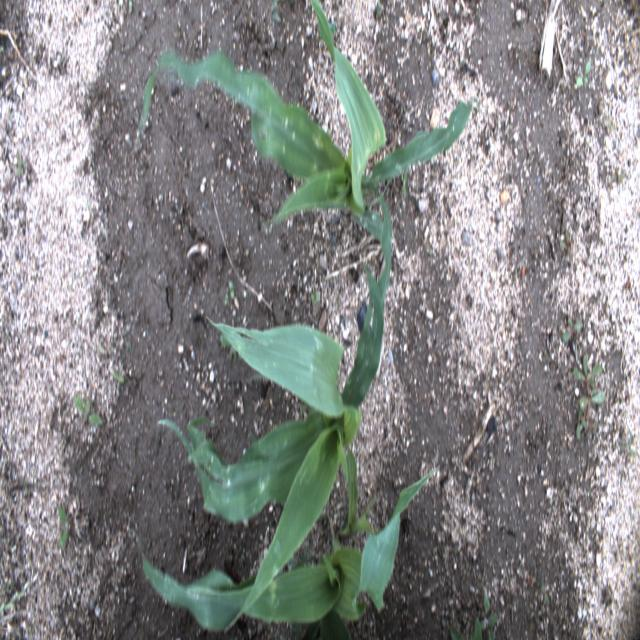crop: (155, 196, 393, 637), (130, 1, 474, 246), (144, 447, 442, 639)
weed: (573, 349, 606, 440), (478, 585, 499, 638), (72, 396, 103, 426), (449, 617, 484, 639), (561, 315, 584, 347), (57, 504, 71, 546), (558, 231, 574, 261), (113, 362, 126, 396), (576, 59, 591, 88), (15, 152, 25, 182), (610, 166, 624, 184), (402, 166, 408, 200)
